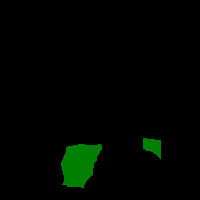mutande: (61, 144, 102, 188), (143, 137, 161, 159)
